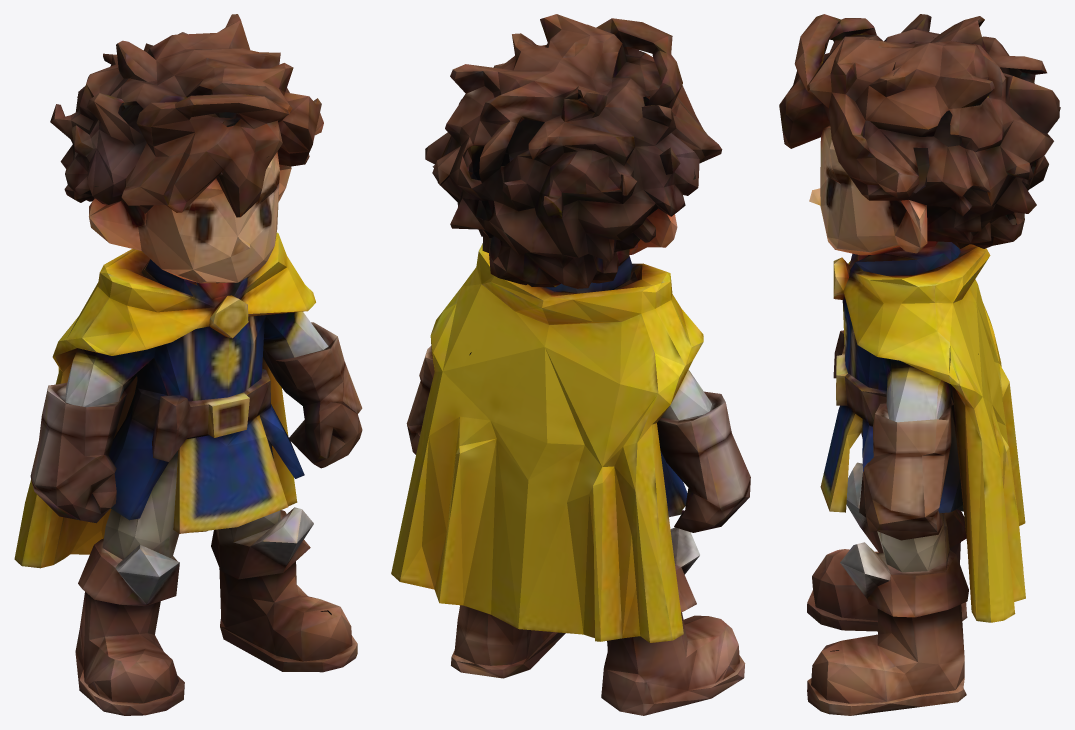
The model's file is thomas_trellis.glb.
3 renders of one model, left to right at view 1: azimuth 30°, elevation 25°; view 2: azimuth 150°, elevation 25°; view 3: azimuth 270°, elevation 25°, orthographic. The views are drawn at different scales.
Parts seen in each view (by area): view 1: world; view 2: world; view 3: world.
Boxes of the visible parts, <box> form: world: <box>14,14,362,715</box>; world: <box>391,14,750,715</box>; world: <box>779,14,1060,715</box>.
Size of the model in its own units: 0.5556 by 0.9994 by 0.4134.
Materials: 1 (1 with a texture image).
